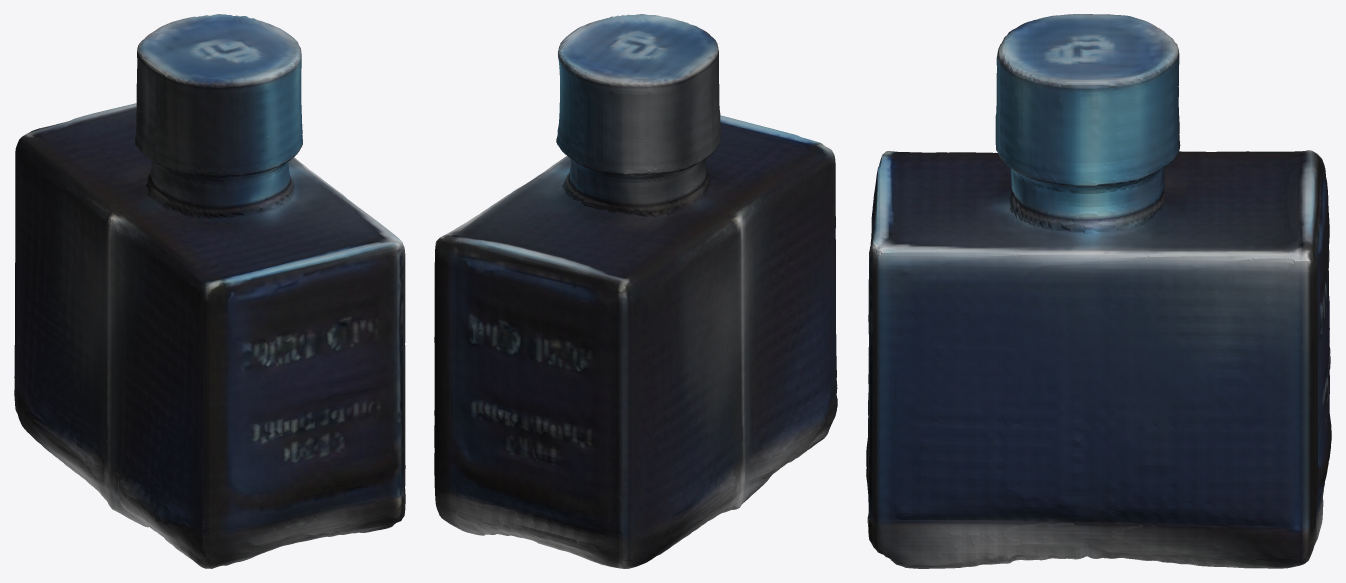
File: product10.glb
The picture shows the model from 3 angles, left to right: view 1: azimuth 30°, elevation 25°; view 2: azimuth 150°, elevation 25°; view 3: azimuth 270°, elevation 25°; orthographic projection. The views are drawn at different scales.
Parts seen in each view (by area): view 1: world; view 2: world; view 3: world.
Boxes of the visible parts, x1,y1,x2,y2 form: world: [14, 14, 405, 568]; world: [434, 14, 837, 568]; world: [866, 14, 1331, 568].
Size of the model in its own units: 1.04 by 1.92 by 1.69.
